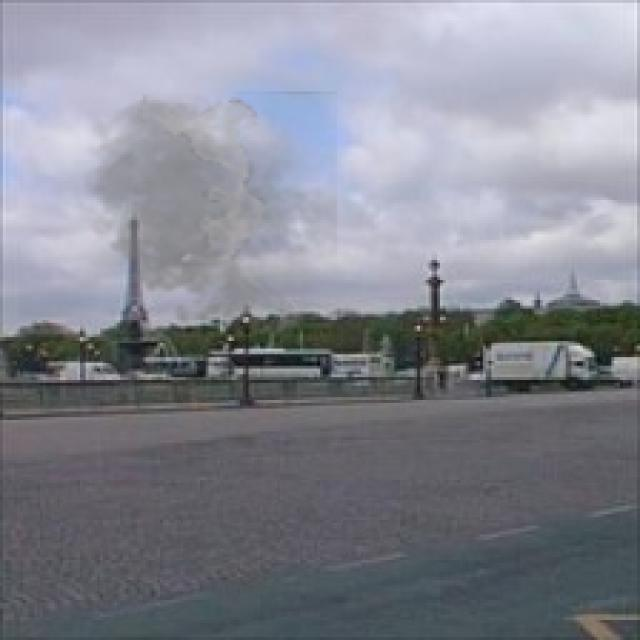smoke: (72, 91, 337, 340)
